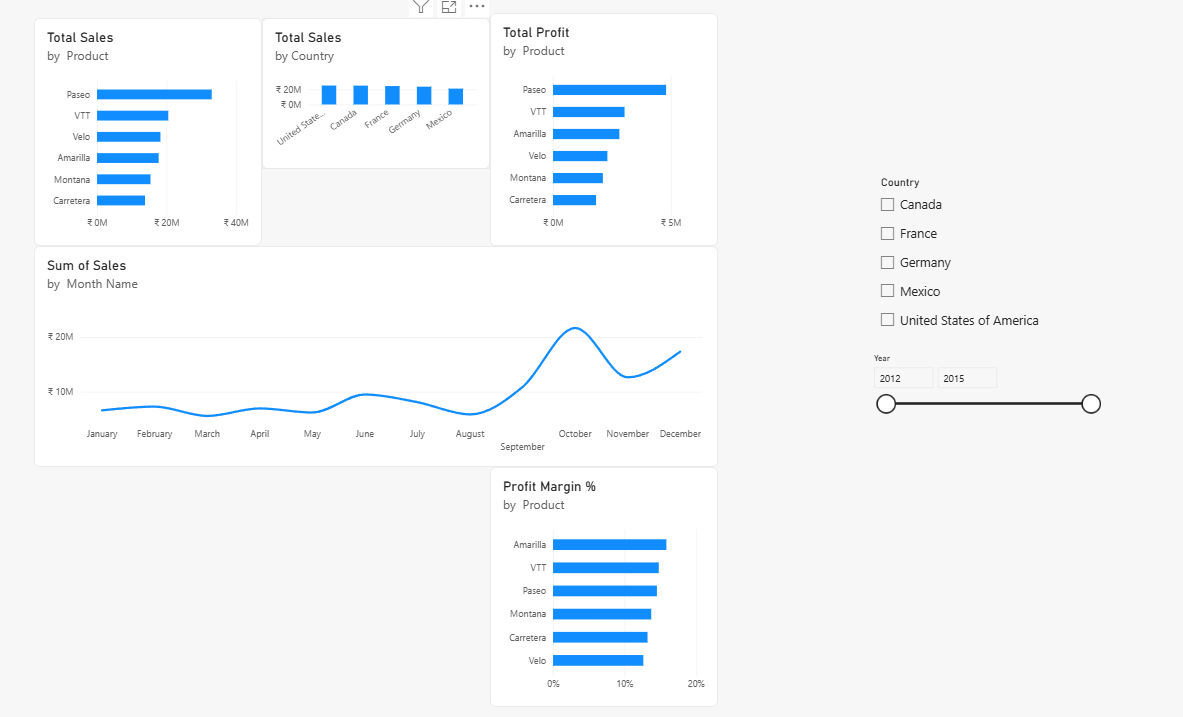

What the dashboard file says about the page in this screenshot:
{"tool":"powerbi","page":{"name":"Page 1","canvas":[1920,1080],"ordinal":0},"visuals":[{"type":"lineChart","fields":{"Category":["Financial Sample. Month Name "],"Y":["Sum(Financial Sample. Sales)"]},"box":[50,343.8,900.9,291.1],"z":0},{"type":"clusteredBarChart","fields":{"Category":["Financial Sample. Product "],"Y":["Financial Sample.Total Sales"]},"box":[50,43.5,300,300],"z":1},{"type":"clusteredColumnChart","fields":{"Category":["Financial Sample.Country"],"Y":["Financial Sample.Total Sales"]},"box":[350.3,43.5,300.3,198.9],"z":2},{"type":"clusteredBarChart","fields":{"Category":["Financial Sample. Product "],"Y":["Financial Sample.Total Profit"]},"box":[650.6,36.9,300.3,306.9],"z":3},{"type":"clusteredBarChart","fields":{"Category":["Financial Sample. Product "],"Y":["Financial Sample.Profit Margin %"]},"box":[650.6,634.8,300.3,316.1],"z":4},{"type":"slicer","fields":{"Values":["Financial Sample.Country"]},"box":[1157.7,251.6,300.3,222.6],"z":5},{"type":"slicer","fields":{"Values":["Financial Sample.Year"]},"box":[1148.5,484.7,309.5,110.6],"z":6}]}

Visuals, with their boxes on the page's 1920x1080 design canvas (x1, y1, x2, y2). These are canvas units, not pixel positions in the 1183x717 screenshot, which may show the page scaled, cropped or inside an application window:
lineChart - Financial Sample. Month Name  x Sum(Financial Sample. Sales): {"left": 50, "top": 344, "right": 951, "bottom": 635}
clusteredBarChart - Financial Sample. Product  x Financial Sample.Total Sales: {"left": 50, "top": 44, "right": 350, "bottom": 344}
clusteredColumnChart - Financial Sample.Country x Financial Sample.Total Sales: {"left": 350, "top": 44, "right": 651, "bottom": 242}
clusteredBarChart - Financial Sample. Product  x Financial Sample.Total Profit: {"left": 651, "top": 37, "right": 951, "bottom": 344}
clusteredBarChart - Financial Sample. Product  x Financial Sample.Profit Margin %: {"left": 651, "top": 635, "right": 951, "bottom": 951}
slicer - Financial Sample.Country: {"left": 1158, "top": 252, "right": 1458, "bottom": 474}
slicer - Financial Sample.Year: {"left": 1148, "top": 485, "right": 1458, "bottom": 595}
